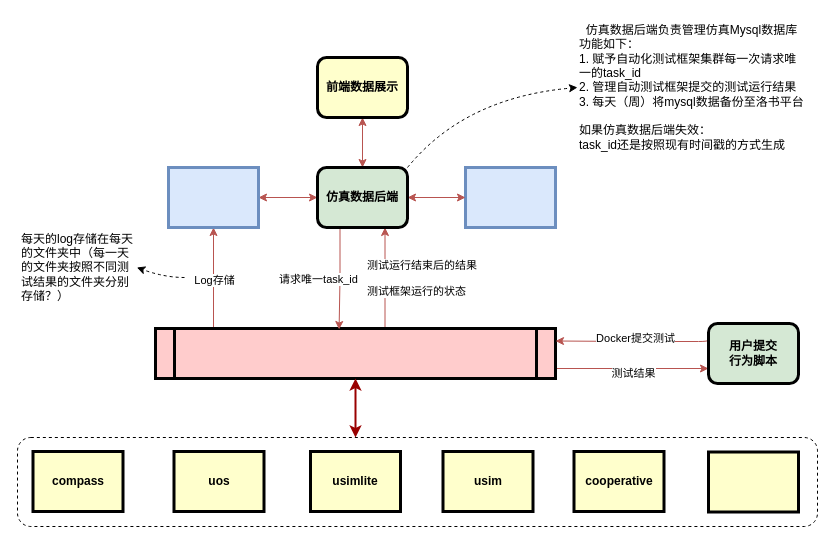
Some shapes in this 835 by 544 pixel diagram are drawn without their labels. The centre of each missing label's shape, as x and y in pixels:
Mysql数据库: (x=510, y=197)
sdk: (x=753, y=481)
洛书数据平台: (x=213, y=197)
自动测试框架 集群: (x=355, y=353)
